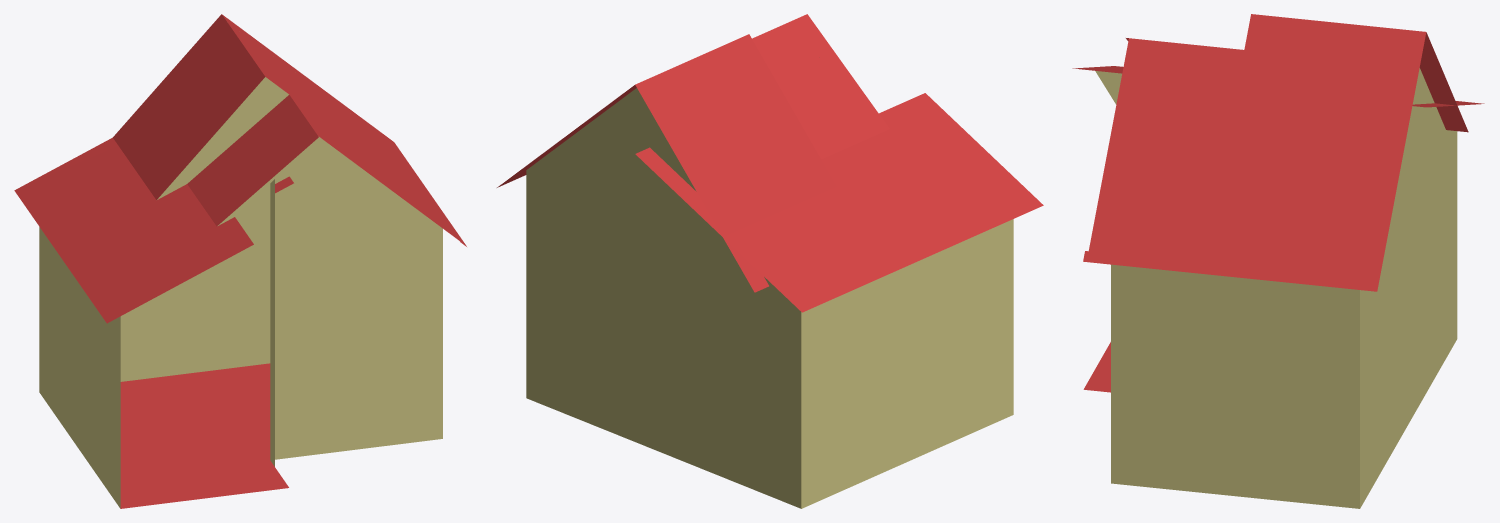
3 views of the same model, side by side, from view 1: azimuth 30°, elevation 25°; view 2: azimuth 150°, elevation 25°; view 3: azimuth 270°, elevation 25° (orthographic). The views are drawn at different scales.
Size of the model in its own units: 17.29 by 13.29 by 14.31.
